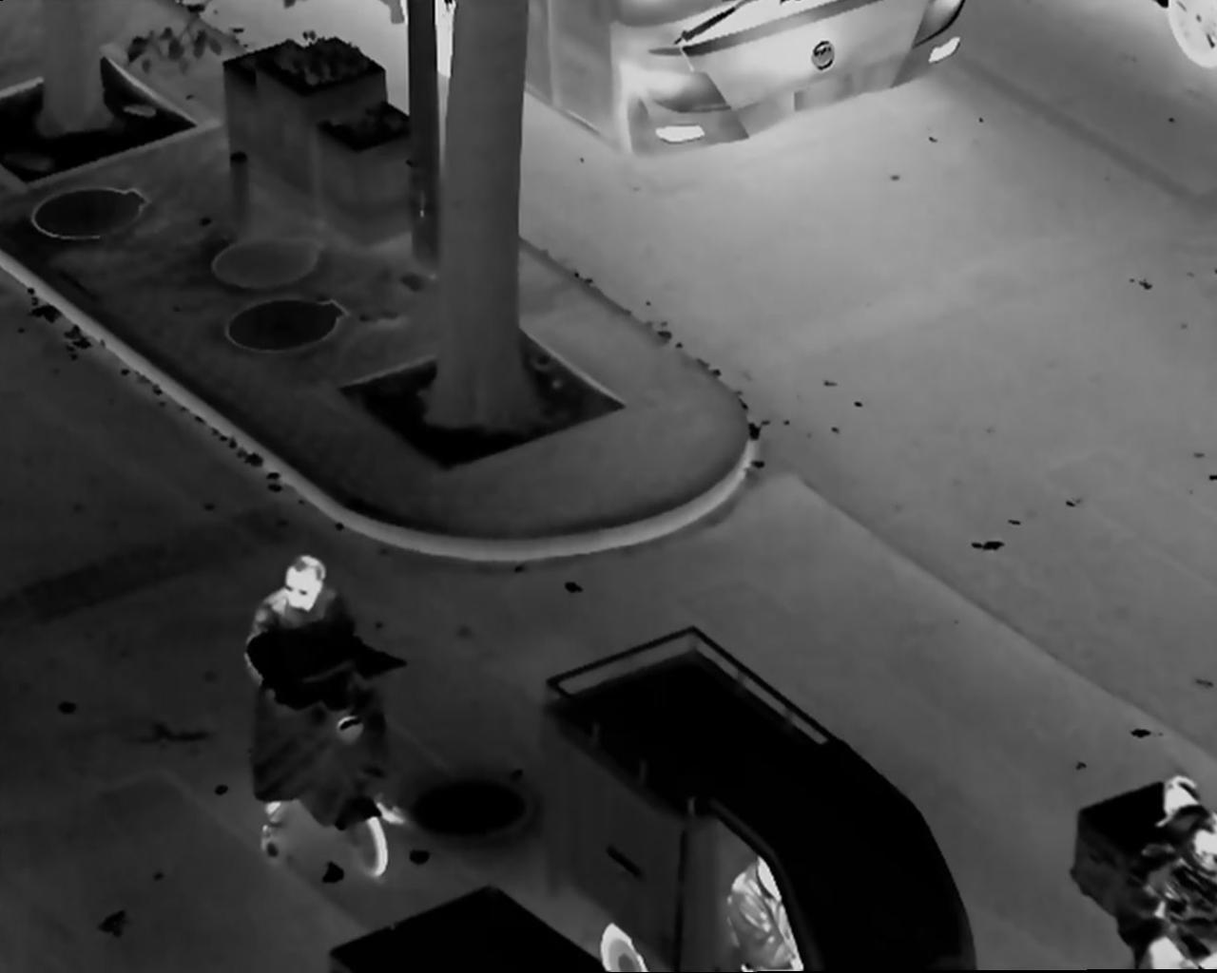person: (246, 559, 410, 828), (1146, 784, 1217, 964), (718, 847, 800, 973)
